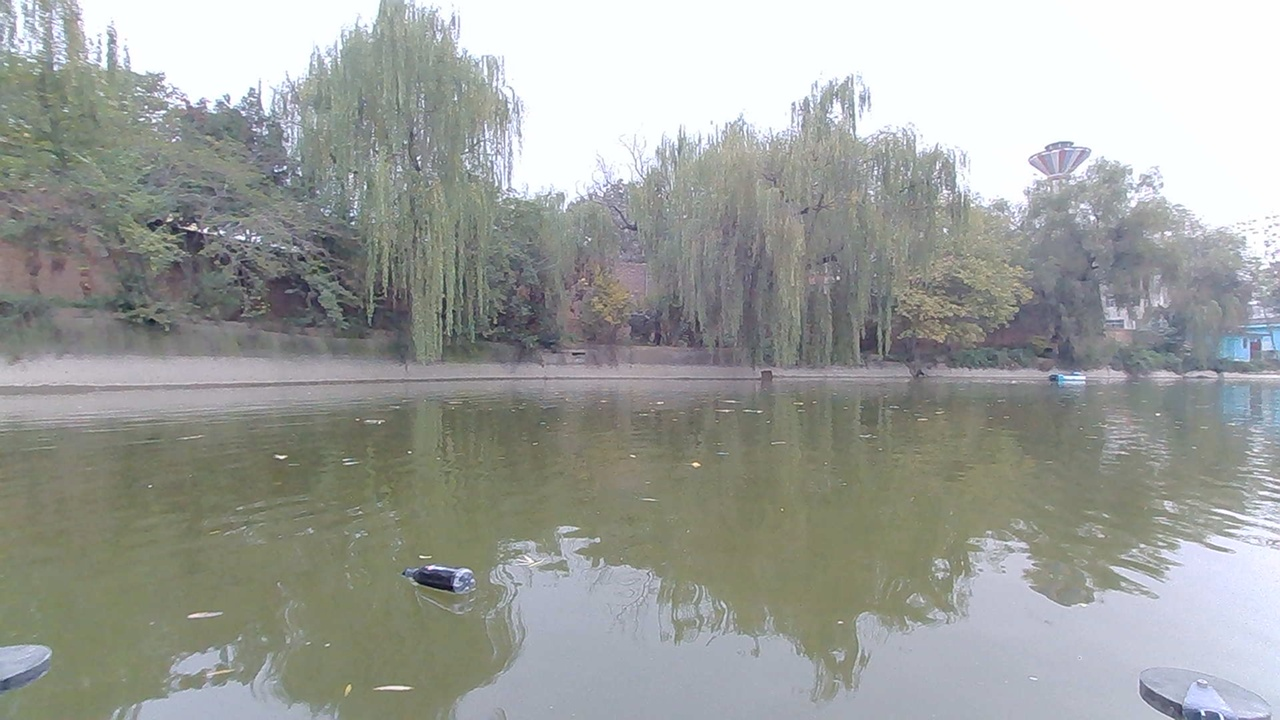bottle: (417, 565, 471, 599)
